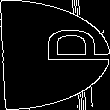P_W: (5, 36, 105, 74)
